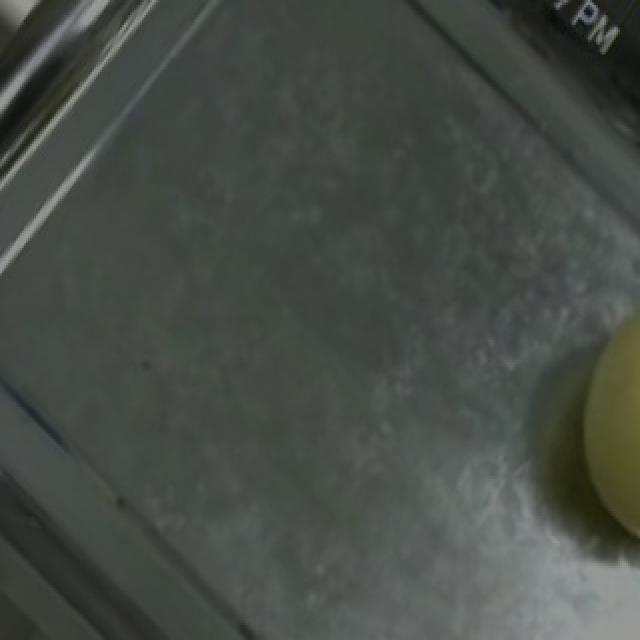Fruit: (546, 280, 640, 576)
